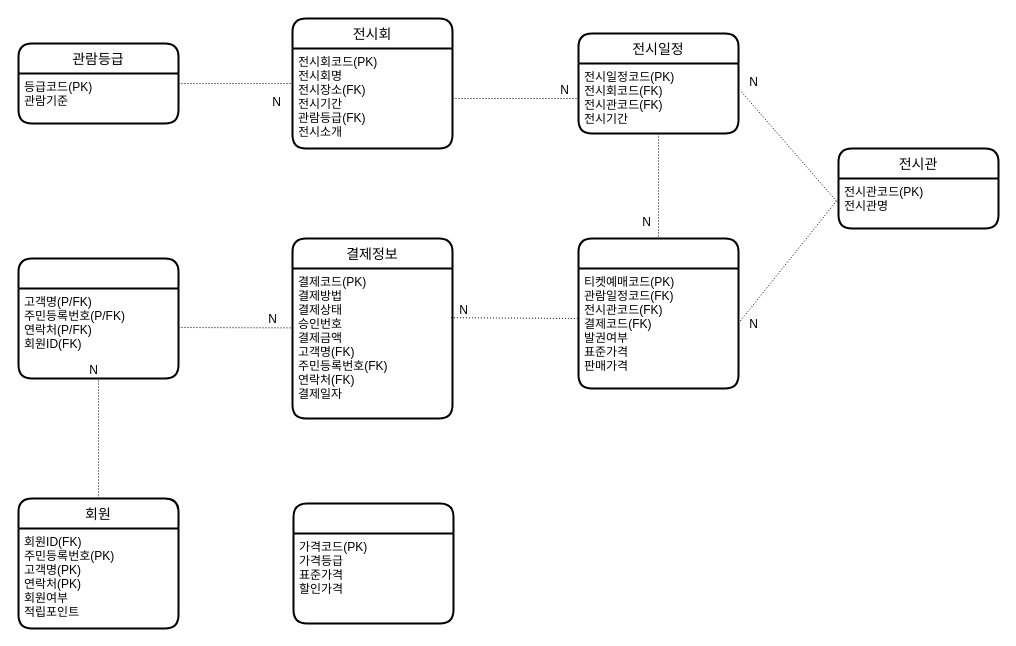
The diagram is 1016 pixels wide and 646 high, and some of its shapes have lost their labels. The box of each missing label's shape, as (x1, y1, x2, y2) in pixels:
가격표: (292, 502, 454, 624)
고객: (17, 257, 179, 379)
티켓: (577, 237, 739, 389)
